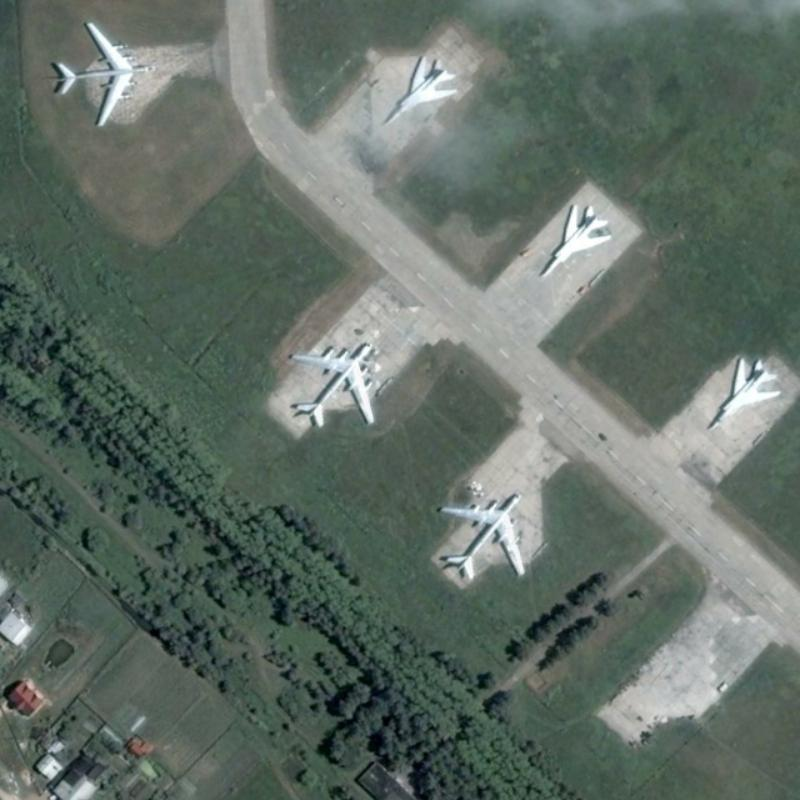A12: (537, 202, 614, 279), (705, 355, 781, 432), (380, 53, 459, 126)
A17: (55, 19, 153, 127), (437, 491, 526, 581), (288, 341, 375, 428)
